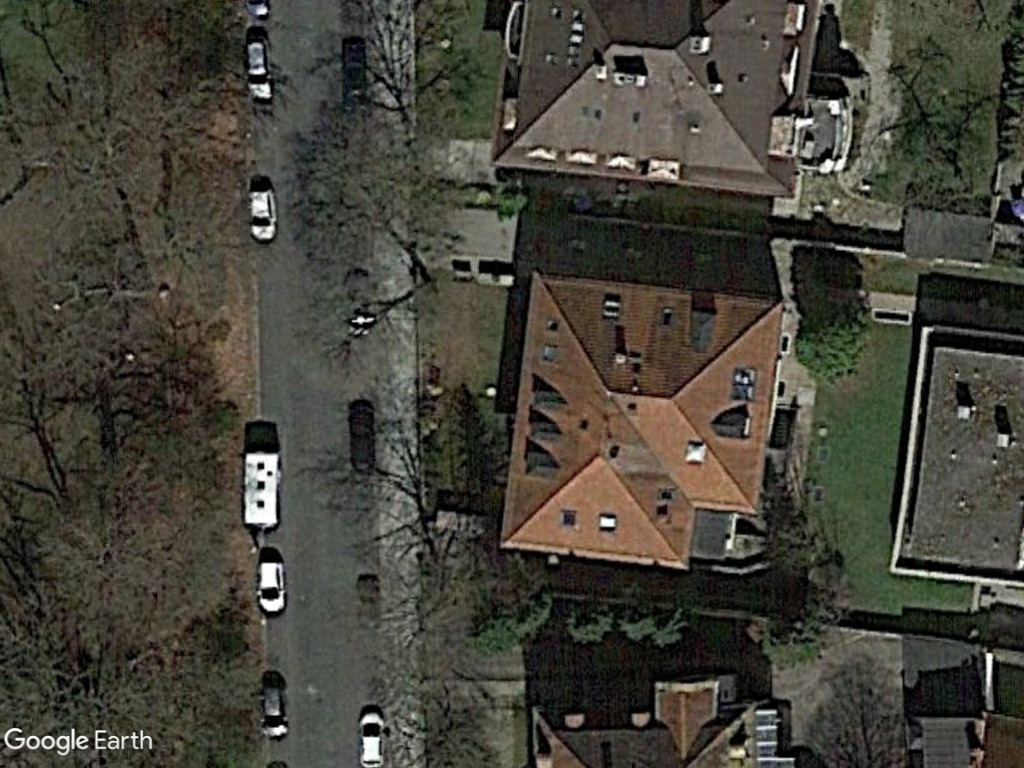bus: (242, 448, 284, 534)
car: (243, 31, 278, 106), (246, 185, 282, 245), (255, 557, 290, 618), (355, 706, 389, 768), (259, 683, 291, 743)
